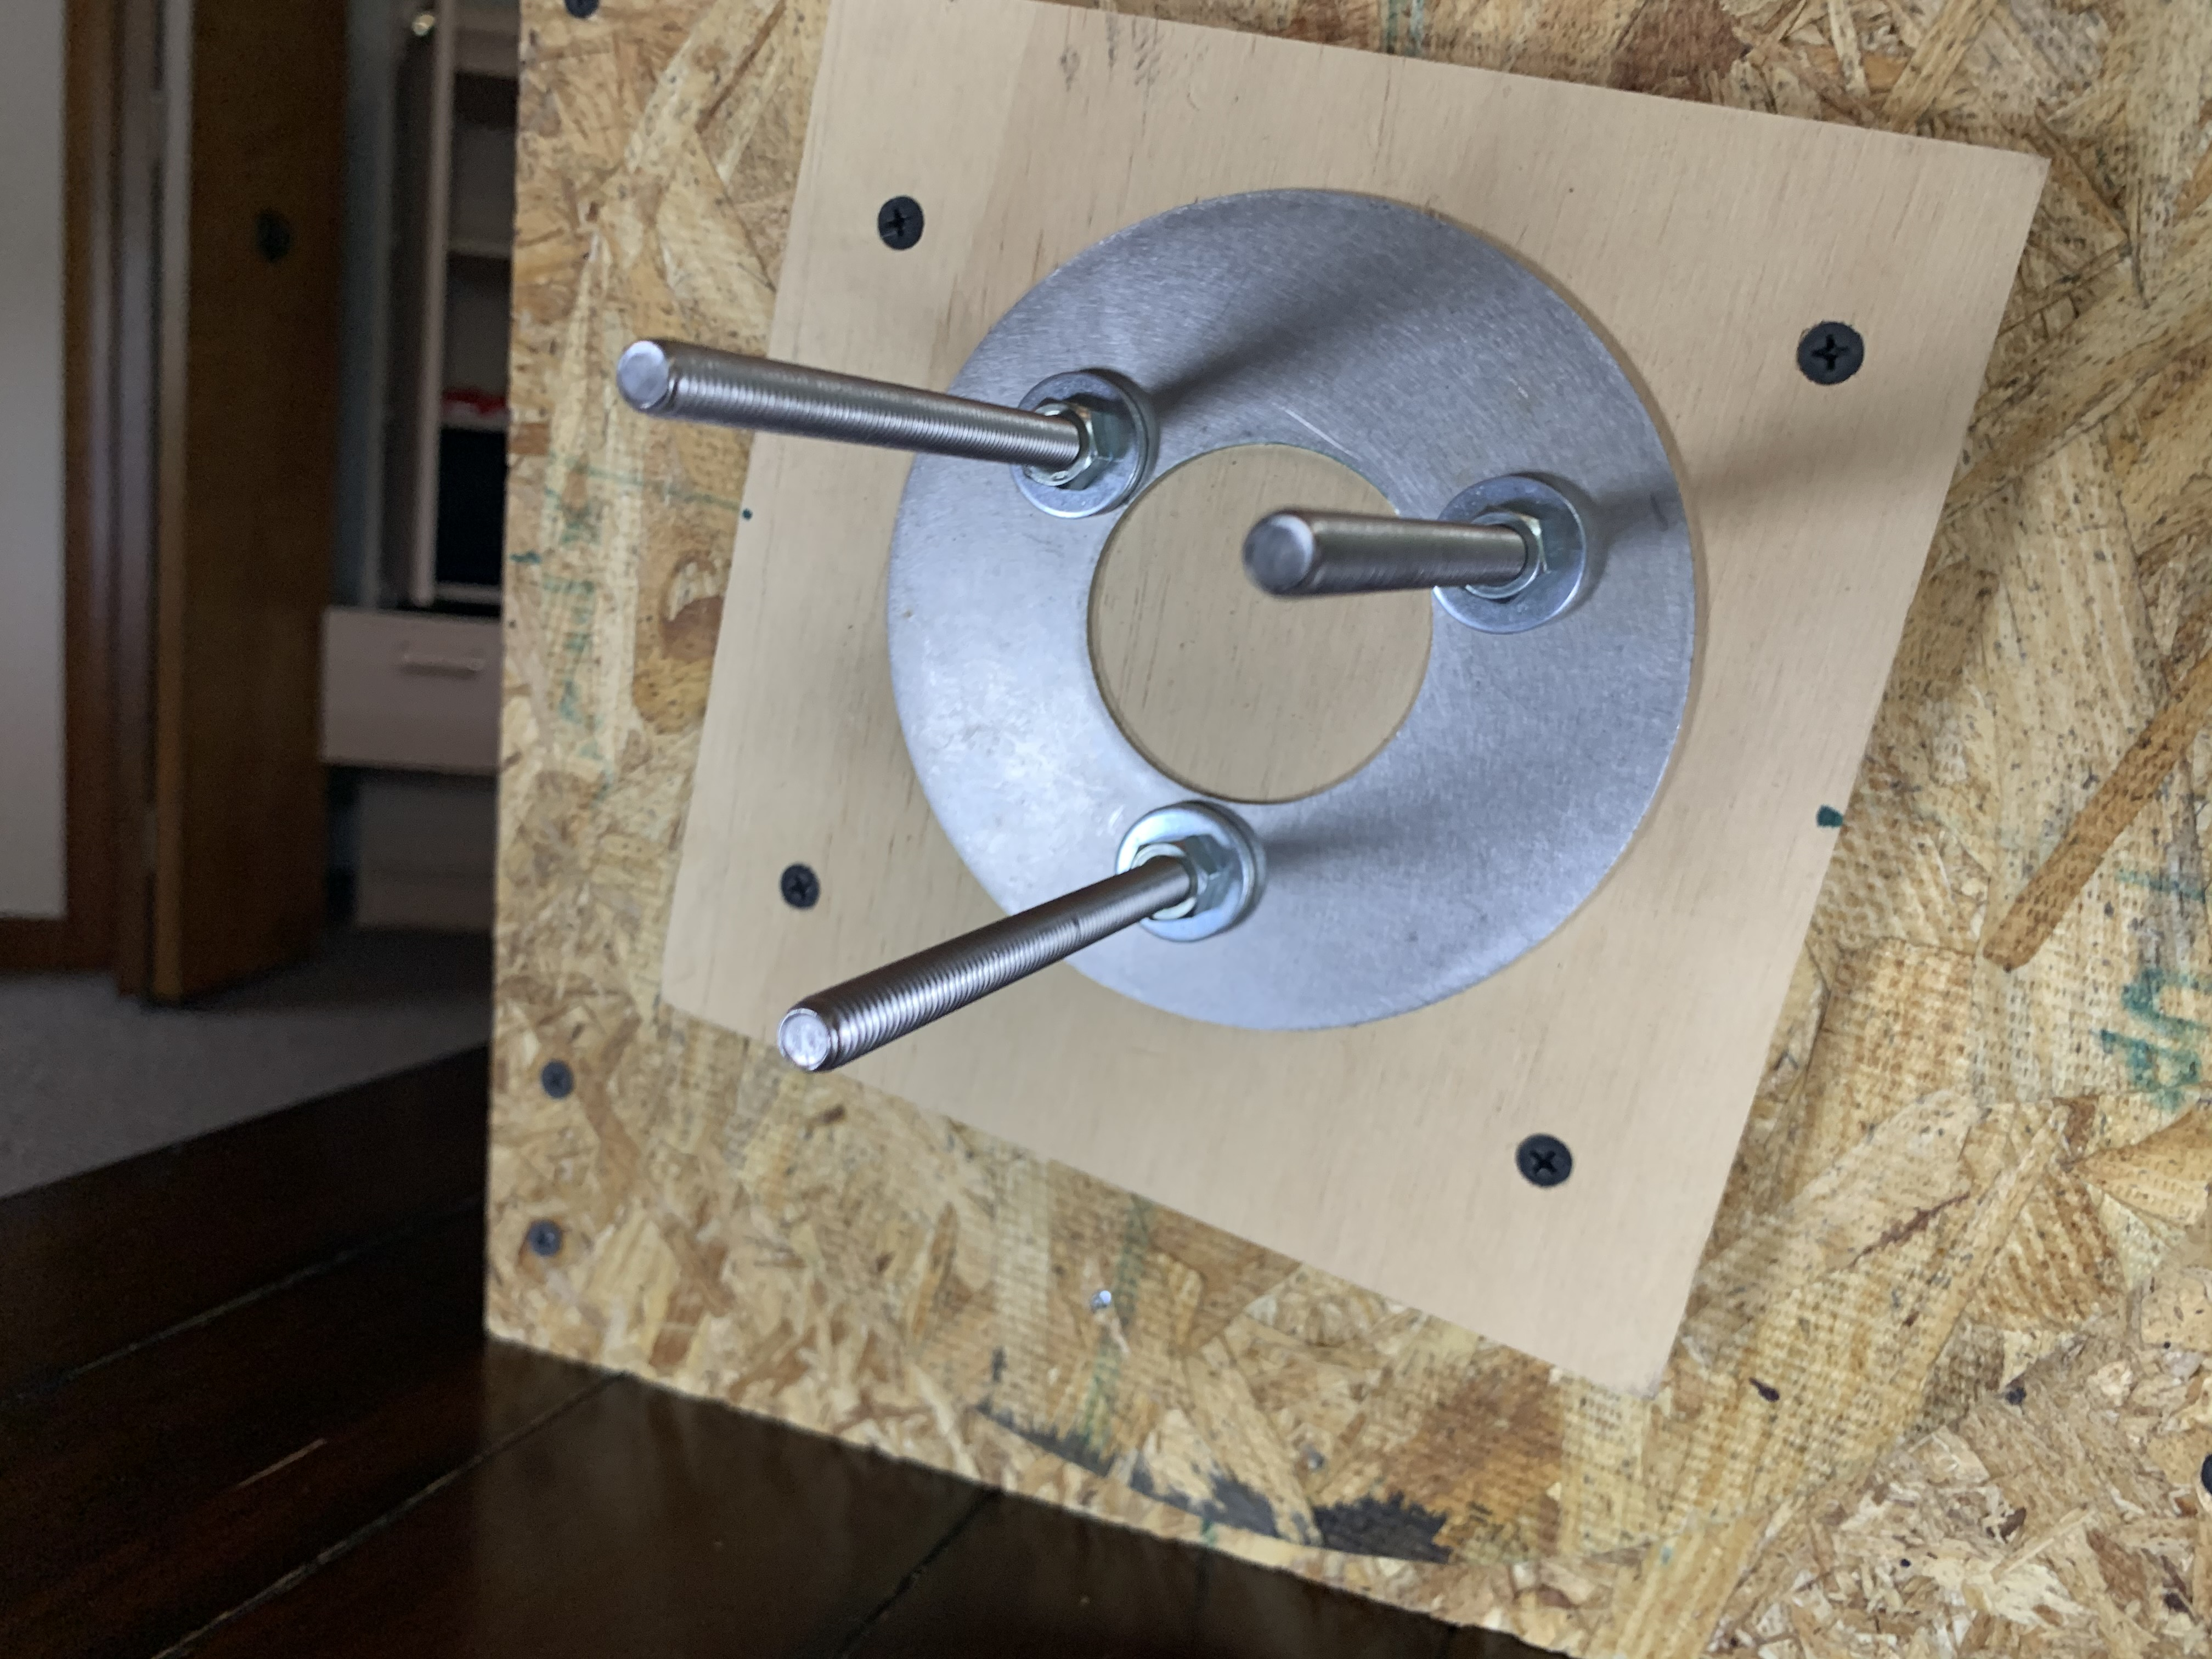bolt: (1430, 469, 1608, 634), (1008, 366, 1155, 518), (1116, 802, 1268, 945)
